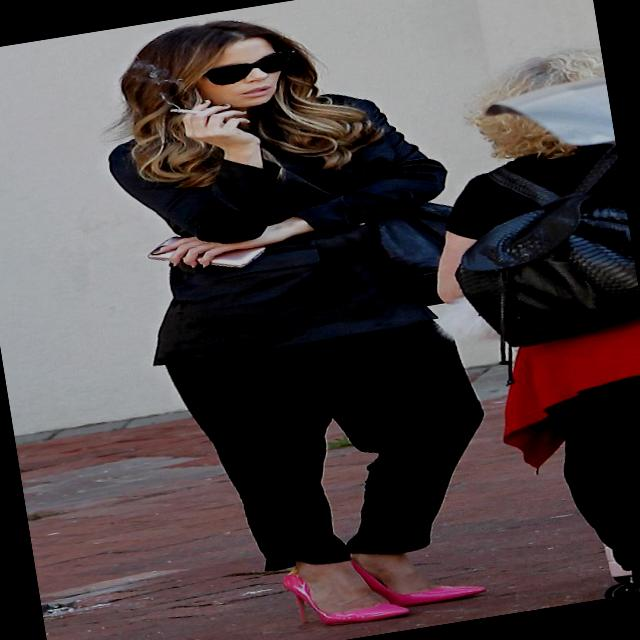cigarette: (144, 92, 231, 126)
